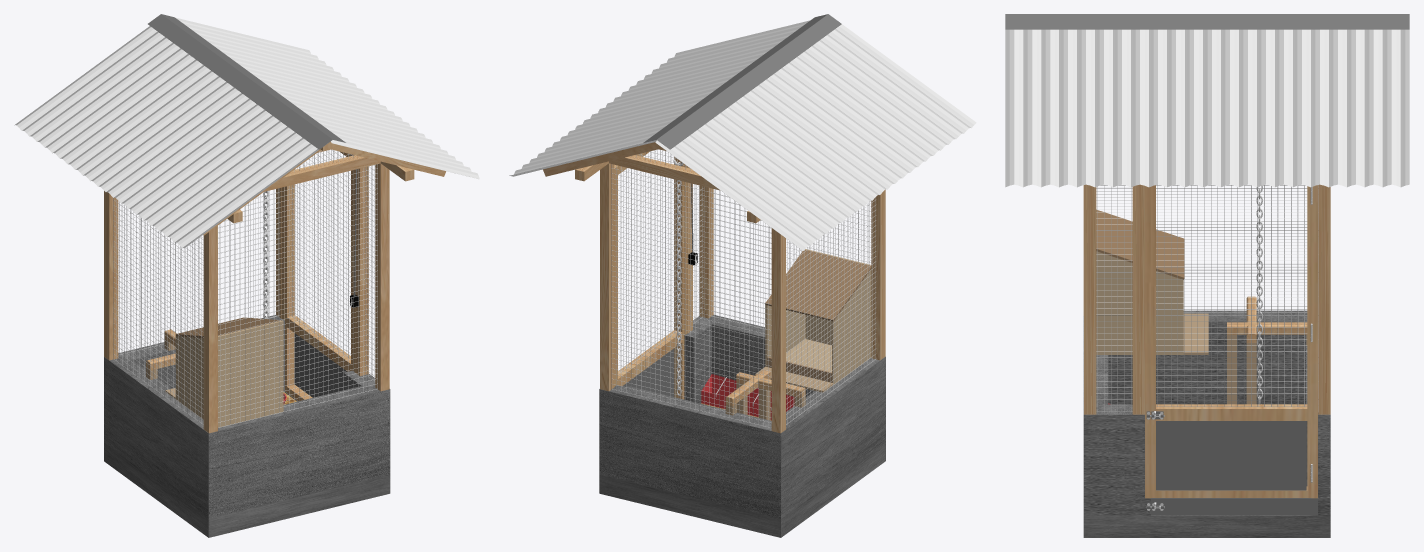
Rendered from 1x1 Dual Purpose.glb.
3 renders of one model, left to right at view 1: azimuth 30°, elevation 25°; view 2: azimuth 150°, elevation 25°; view 3: azimuth 270°, elevation 25°, orthographic. The views are drawn at different scales.
Visible parts, largest first — view 1: Concrete Slab 0.1m Thick x 0.25m Wall Height, 3ft × 9ft_0.4mm divide into 3- Back, 3ft × 9ft_0.4mm divide into 3- Front, Mesh Wire Vertical 0.025x0.025x0.0016m, Mesh Wire Horizontal 0.025x0.025x0.0016m, Back, Mesh Wire Vertical 0.025x0.025x0.0016m.Back, Ridge Roll, Door Frame, Post Front Left, Mesh Wire Vertical 0.025x0.025x0.0016m.Door, Mesh Wire Vertical 0.025x0.025x0.0016m.Right (+14 smaller); view 2: Concrete Slab 0.1m Thick x 0.25m Wall Height, 3ft × 9ft_0.4mm divide into 3- Back, 3ft × 9ft_0.4mm divide into 3- Front, Mesh Wire Vertical 0.025x0.025x0.0016m.Right, Mesh Wire Horizontal 0.025x0.025x0.0016m.Right, Mesh Wire Vertical 0.025x0.025x0.0016m.Back, Ridge Roll, Roof Cap, Mesh Wire Vertical 0.025x0.025x0.0016m.Door, Door Frame, Post Front Right, Mesh Wire Horizontal 0.025x0.025x0.0016m.Back (+20 smaller); view 3: 3ft × 9ft_0.4mm divide into 3- Front, Concrete Slab 0.1m Thick x 0.25m Wall Height, Door Silver, Door Frame, Ridge Roll, Mesh Wire Horizontal 0.025x0.025x0.0016m.Door, Mesh Wire Vertical 0.025x0.025x0.0016m.Door, Left, Frame, Mesh Wire Horizontal 0.025x0.025x0.0016m.Back, Post Front Middle, Post Front Left (+11 smaller).
Part boxes in pixels (<box>): Concrete Slab 0.1m Thick x 0.25m Wall Height: <box>104,315,390,537</box>; 3ft × 9ft_0.4mm divide into 3- Back: <box>14,26,327,248</box>; 3ft × 9ft_0.4mm divide into 3- Front: <box>175,17,479,179</box>; Mesh Wire Vertical 0.025x0.025x0.0016m: <box>220,150,377,427</box>; Mesh Wire Horizontal 0.025x0.025x0.0016m: <box>218,151,377,427</box>; Back: <box>218,320,283,425</box>; Mesh Wire Vertical 0.025x0.025x0.0016m.Back: <box>113,198,201,423</box>; Ridge Roll: <box>148,14,345,149</box>; Door Frame: <box>285,151,352,401</box>; Post Front Left: <box>375,163,389,391</box>; Mesh Wire Vertical 0.025x0.025x0.0016m.Door: <box>292,150,348,357</box>; Mesh Wire Vertical 0.025x0.025x0.0016m.Right: <box>121,188,278,354</box>; Concrete Slab 0.1m Thick x 0.25m Wall Height: <box>599,315,885,537</box>; 3ft × 9ft_0.4mm divide into 3- Back: <box>655,24,976,250</box>; 3ft × 9ft_0.4mm divide into 3- Front: <box>509,20,809,176</box>; Mesh Wire Vertical 0.025x0.025x0.0016m.Right: <box>611,150,768,427</box>; Mesh Wire Horizontal 0.025x0.025x0.0016m.Right: <box>611,151,771,427</box>; Mesh Wire Vertical 0.025x0.025x0.0016m.Back: <box>787,197,875,423</box>; Ridge Roll: <box>643,14,841,149</box>; Roof Cap: <box>765,250,871,321</box>; Mesh Wire Vertical 0.025x0.025x0.0016m.Door: <box>620,150,677,372</box>; Door Frame: <box>616,151,684,399</box>; Post Front Right: <box>600,163,614,391</box>; Mesh Wire Horizontal 0.025x0.025x0.0016m.Back: <box>786,200,876,424</box>; 3ft × 9ft_0.4mm divide into 3- Front: <box>1005,29,1409,187</box>; Concrete Slab 0.1m Thick x 0.25m Wall Height: <box>1083,310,1330,537</box>; Door Silver: <box>1156,421,1306,490</box>; Door Frame: <box>1151,185,1311,497</box>; Ridge Roll: <box>1005,14,1409,29</box>; Mesh Wire Horizontal 0.025x0.025x0.0016m.Door: <box>1156,188,1307,406</box>; Mesh Wire Vertical 0.025x0.025x0.0016m.Door: <box>1157,185,1304,406</box>; Left: <box>1096,251,1183,352</box>; Frame: <box>1145,185,1317,498</box>; Mesh Wire Horizontal 0.025x0.025x0.0016m.Back: <box>1096,185,1307,312</box>; Post Front Middle: <box>1132,184,1144,414</box>; Post Front Left: <box>1084,184,1096,414</box>.
Bounding box in the file's own units: 1.63 × 2.11 × 1.64.
Materials: 28 (4 with a texture image).
